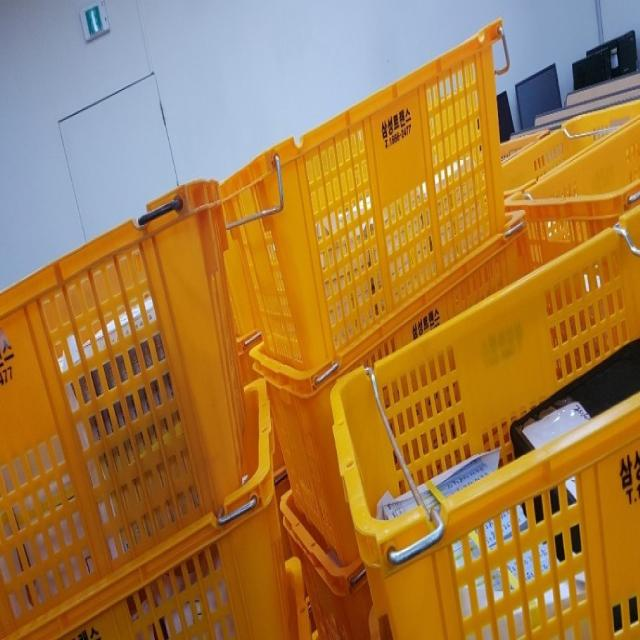basket: (182, 129, 553, 569), (179, 17, 608, 389), (0, 180, 286, 640), (276, 479, 381, 640)
